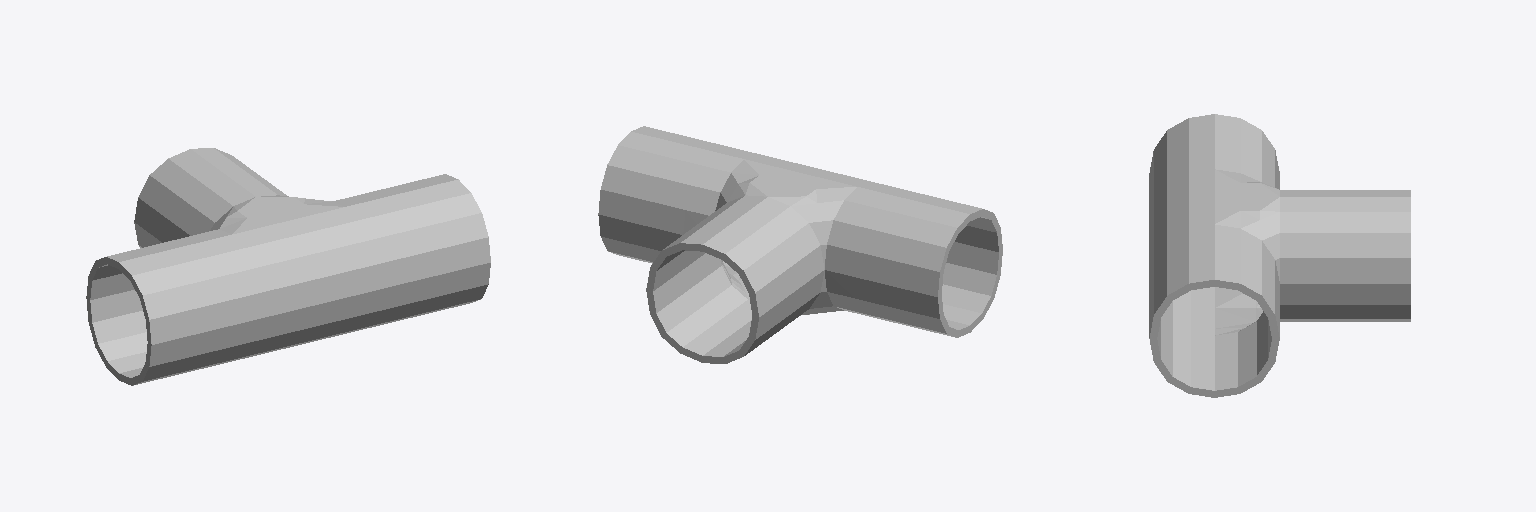
The model's file is TPipe.obj.
3 renders of one model, left to right at view 1: azimuth 30°, elevation 25°; view 2: azimuth 150°, elevation 25°; view 3: azimuth 270°, elevation 25°, orthographic.
Visible parts, largest first — view 1: T_pipe_Cube.003; view 2: T_pipe_Cube.003; view 3: T_pipe_Cube.003.
Boxes of the visible parts, x1=… form: T_pipe_Cube.003: x1=86, y1=148, x2=490, y2=385; T_pipe_Cube.003: x1=598, y1=126, x2=1002, y2=363; T_pipe_Cube.003: x1=1149, y1=114, x2=1410, y2=397.
Bounding box in the file's own units: 1.97 × 0.6554 × 1.31.